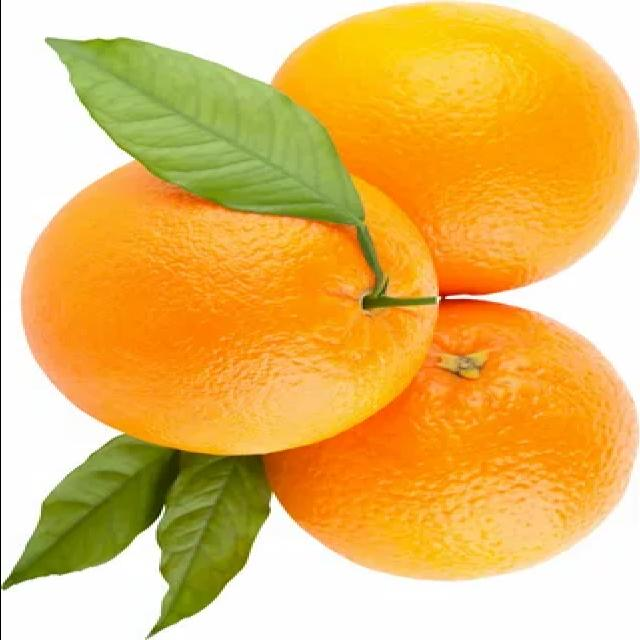orange: (10, 130, 442, 482)
